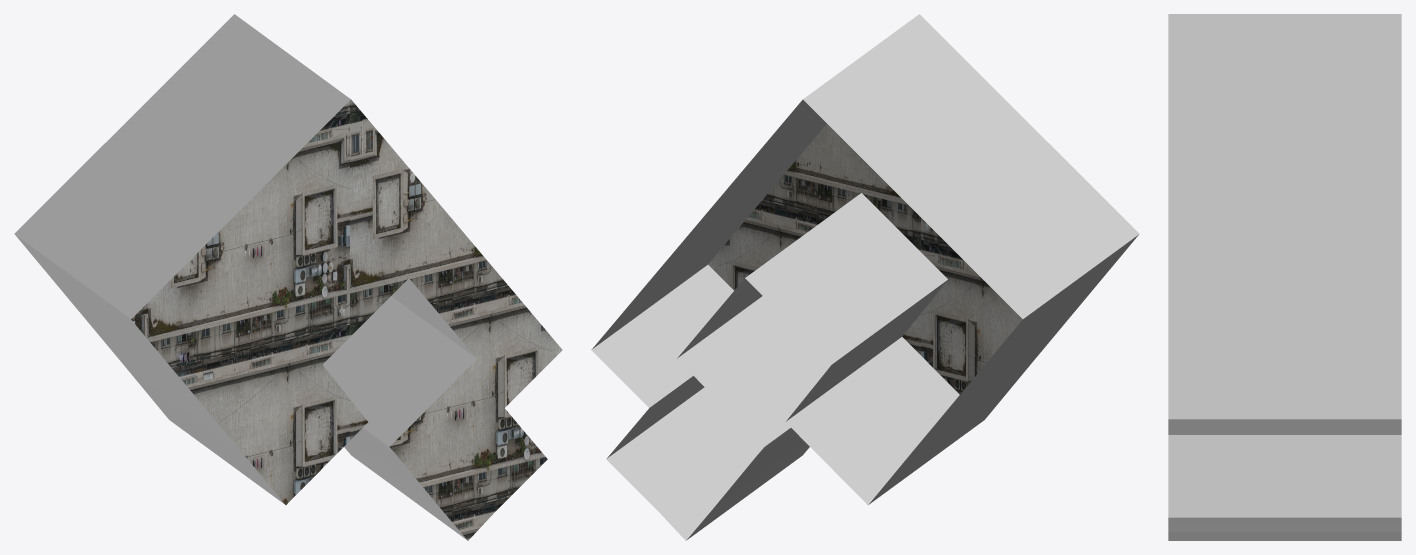
Rendered from geospecific_1685.obj.
3 renders of one model, left to right at view 1: azimuth 30°, elevation 25°; view 2: azimuth 150°, elevation 25°; view 3: azimuth 270°, elevation 25°, orthographic.
Parts seen in each view (by area): view 1: Building; view 2: Building; view 3: Building.
Part boxes in pixels (<box>): Building: <box>14,14,562,540</box>; Building: <box>591,14,1139,540</box>; Building: <box>1168,14,1401,540</box>.
Bounding box in the file's own units: 25.63 × 26.67 × 12.
